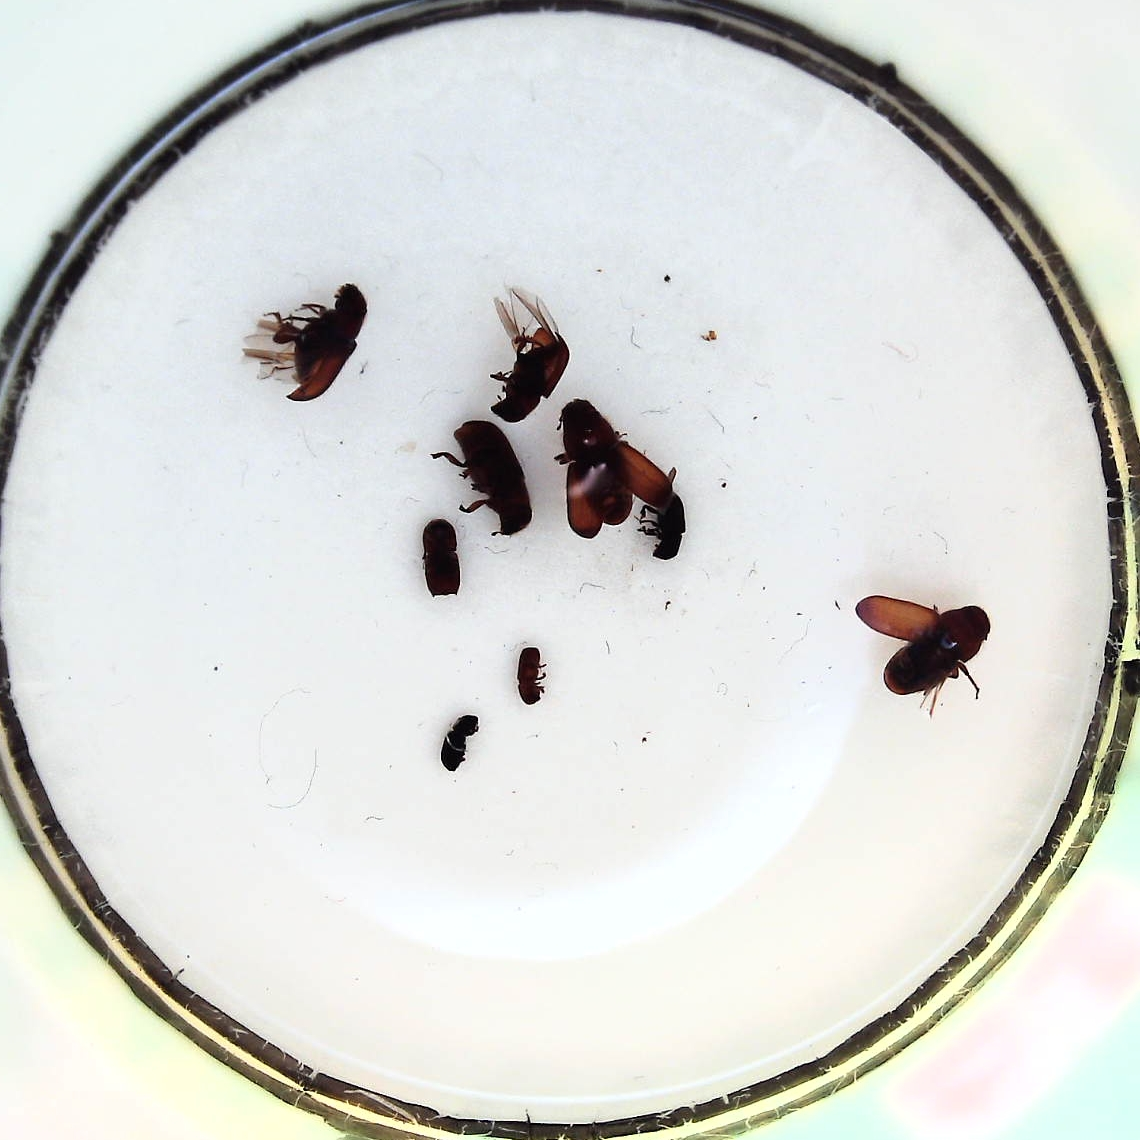Leconte: (854, 594, 992, 717), (554, 398, 665, 539), (241, 283, 369, 404), (431, 420, 532, 535), (486, 286, 570, 424)
Linnaeus: (421, 519, 462, 599)
acuminatus: (514, 646, 547, 705)
armandi: (637, 486, 688, 564)
coleoptera: (437, 712, 479, 774)
